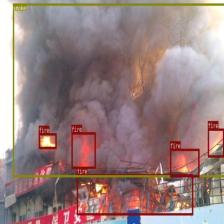fire: (77, 174, 193, 215), (71, 132, 96, 168), (170, 149, 199, 177), (207, 128, 224, 157), (38, 133, 56, 149)
smoke: (12, 3, 224, 176)
